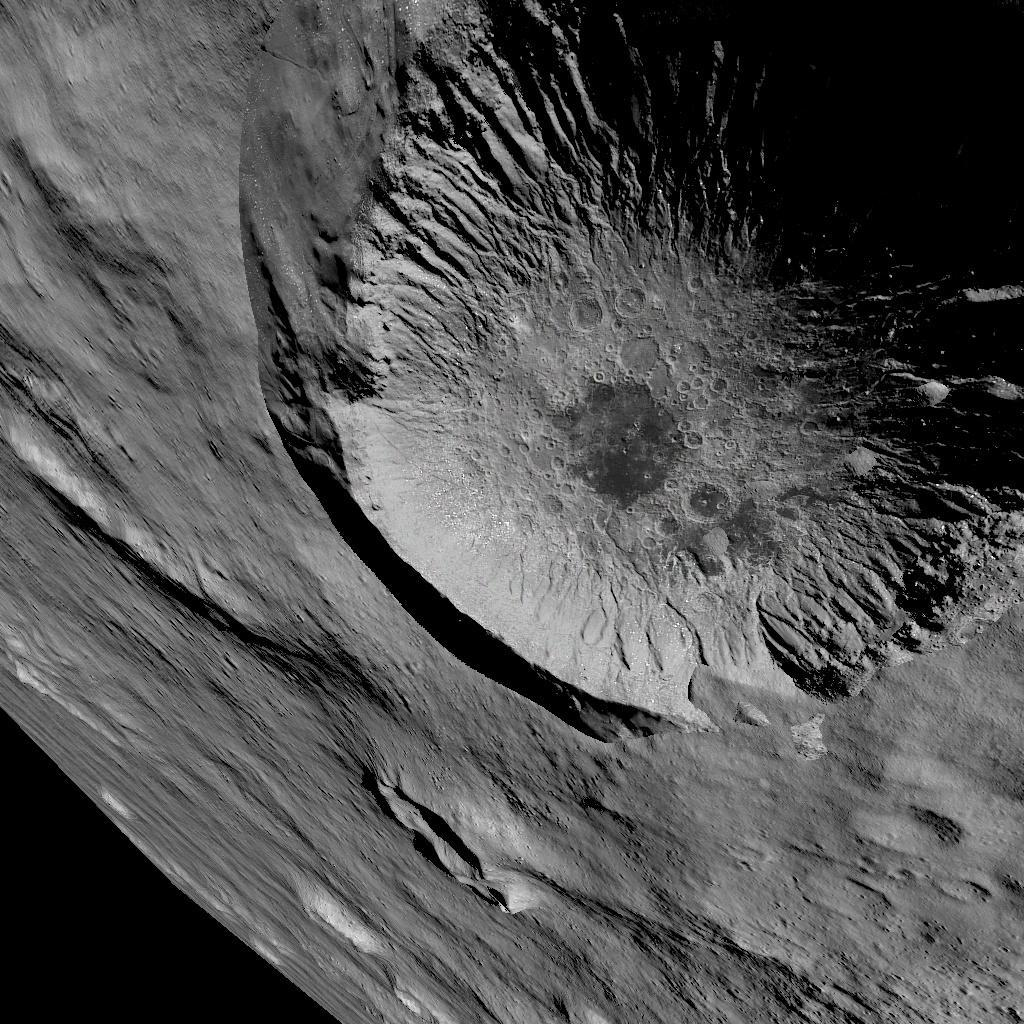Crater: (233, 0, 1021, 753), (339, 760, 509, 920)
Plan surface: (535, 782, 1024, 1024)
